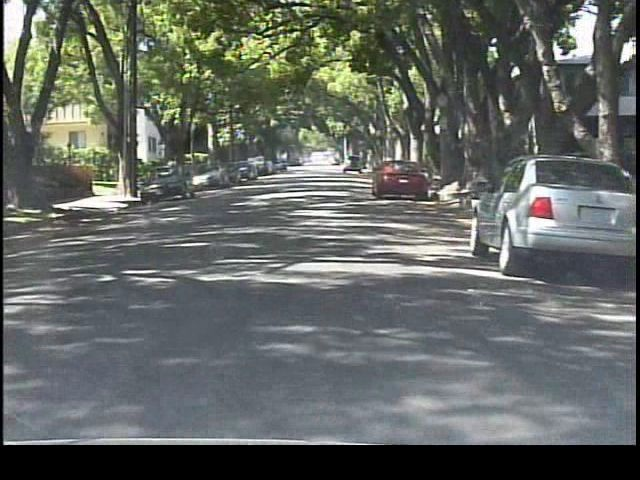person: (164, 154, 183, 190)
